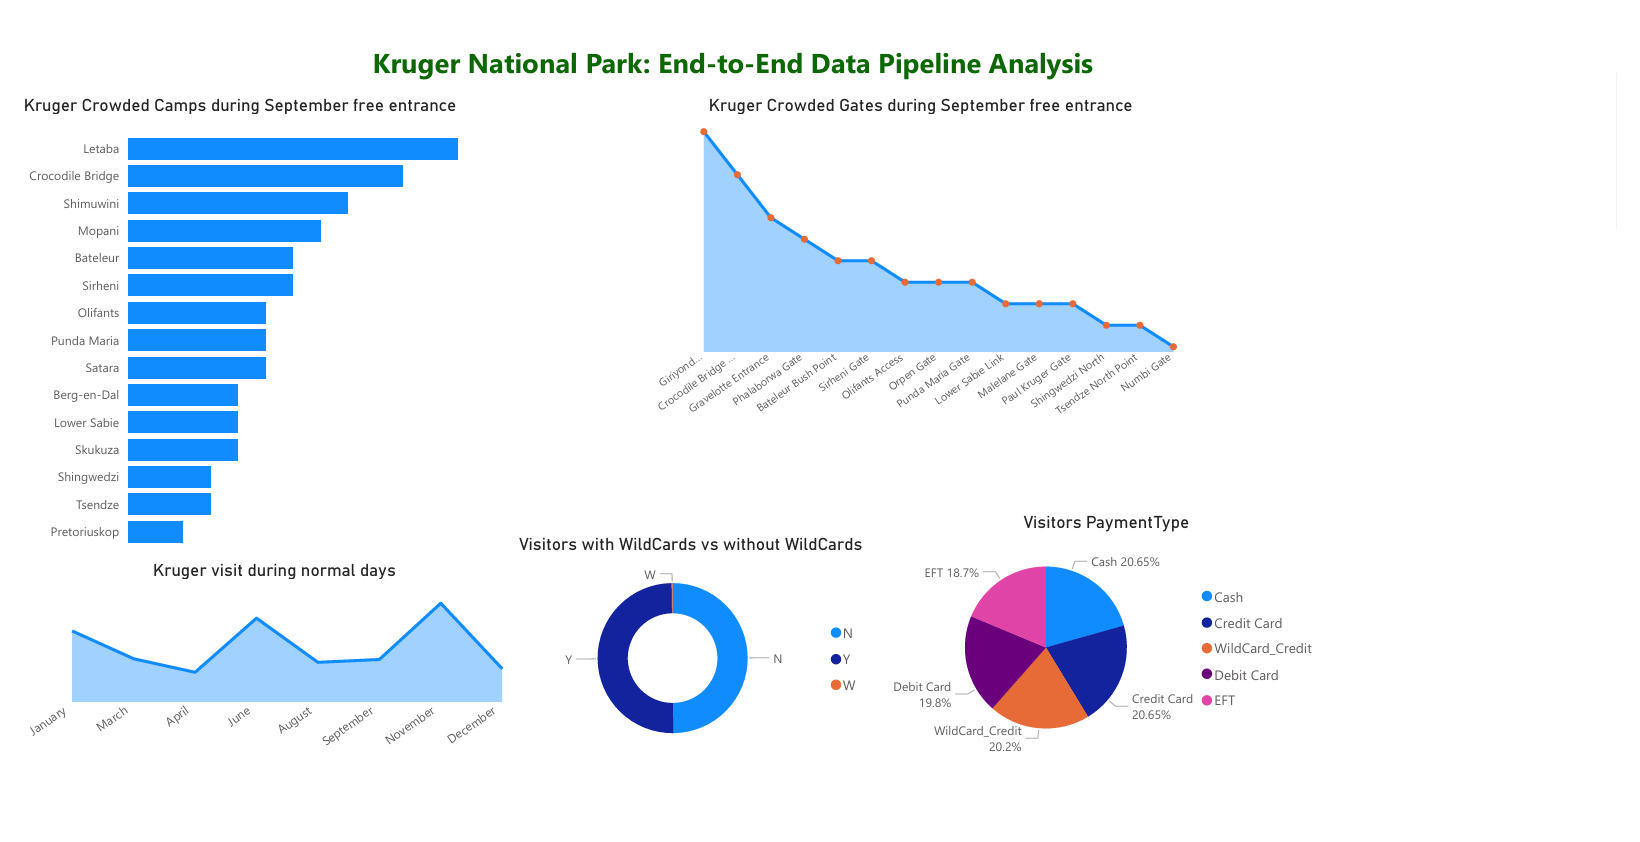

This screenshot's page, from the dashboard's own definition file:
{"tool":"powerbi","page":{"name":"Page 1","canvas":[1280,720],"ordinal":0},"visuals":[{"type":"stackedAreaChart","title":"Kruger visit during normal days","fields":{"Category":["crowded_camps.EntryDate.Variation.Date Hierarchy.Month"],"Y":["Sum(crowded_camps.Normal_days_count_visited)"]},"box":[0,520.7,503.5,199.7],"z":0},{"type":"areaChart","title":"Kruger Crowded Gates during September free entrance","fields":{"Category":["crowded_camps_on_september.GateName"],"Y":["Sum(crowded_camps_on_september.Sept_count_visited)"]},"box":[618.7,66.2,530.5,333.2],"z":1000},{"type":"clusteredBarChart","title":"Kruger Crowded Camps during September free entrance","fields":{"Category":["crowded_camps_on_september.KrugerCampName"],"Y":["Sum(crowded_camps_on_september.Sept_count_visited)"]},"box":[0,66.2,436.1,454.5],"z":2000},{"type":"pieChart","title":"Visitors PaymentType","fields":{"Category":["paymentmethod.PaymentType"],"Y":["Sum(paymentmethod.Number_of_PaymentType)"]},"box":[849,474.1,431.2,246.2],"z":3000},{"type":"textbox","box":[321,11,757.1,55.1],"z":6000},{"type":"donutChart","title":"Visitors with WildCards vs without WildCards","fields":{"Category":["wildcardmembers.WildCardMember"],"Y":["Sum(wildcardmembers.Wildcard_or_NoWildcard)"]},"box":[482.7,494.9,351.6,225.4],"z":7000}]}

Visuals, with their boxes in screenshot pixels (x1, y1, x2, y2):
"Kruger visit during normal days" stackedAreaChart: left=124, top=626, right=704, bottom=841
"Kruger Crowded Gates during September free entrance" areaChart: left=837, top=102, right=1448, bottom=486
"Kruger Crowded Camps during September free entrance" clusteredBarChart: left=124, top=102, right=626, bottom=626
"Visitors PaymentType" pieChart: left=1102, top=572, right=1599, bottom=841
textbox: left=494, top=38, right=1366, bottom=102
"Visitors with WildCards vs without WildCards" donutChart: left=680, top=596, right=1085, bottom=841
